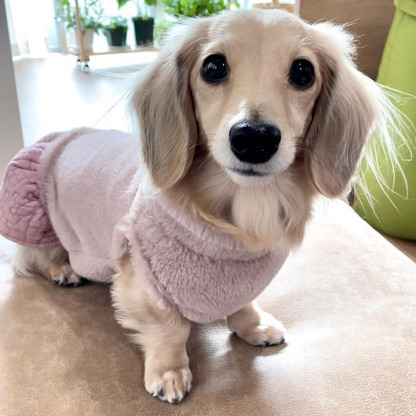dachshund: (27, 7, 396, 379)
